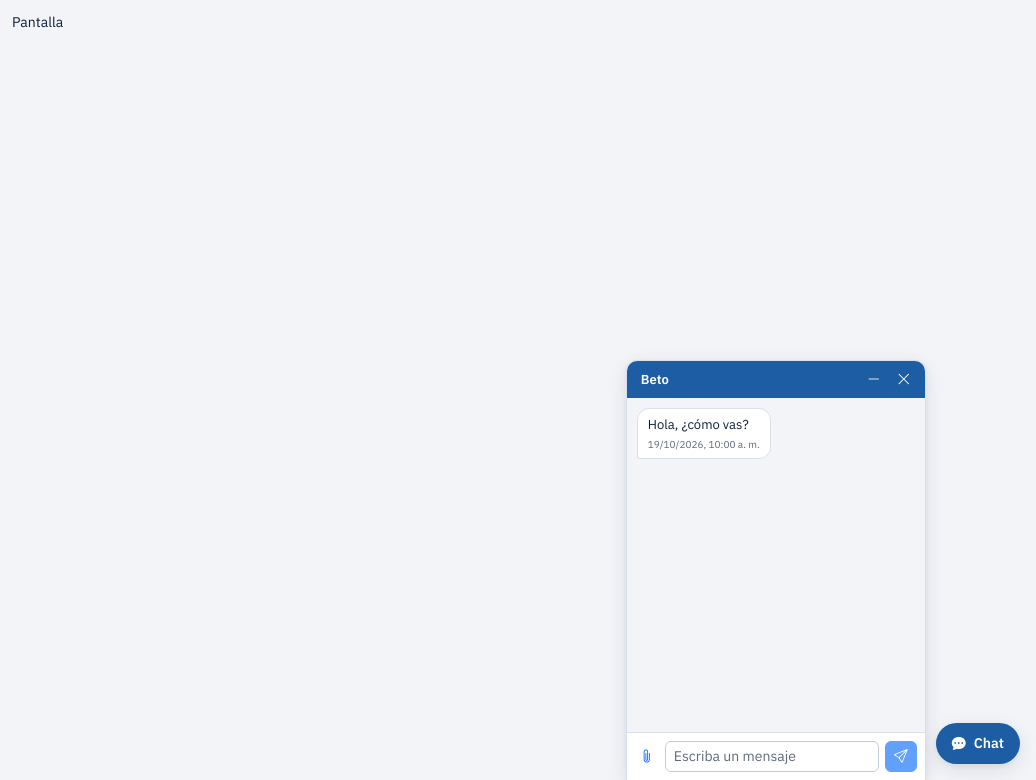
Test: La barra de chat › un clic en cualquier otra parte minimiza el panel y las conversaciones
Step 1. Click the button "Chat" → click(978, 744), box [936, 723, 1020, 764]
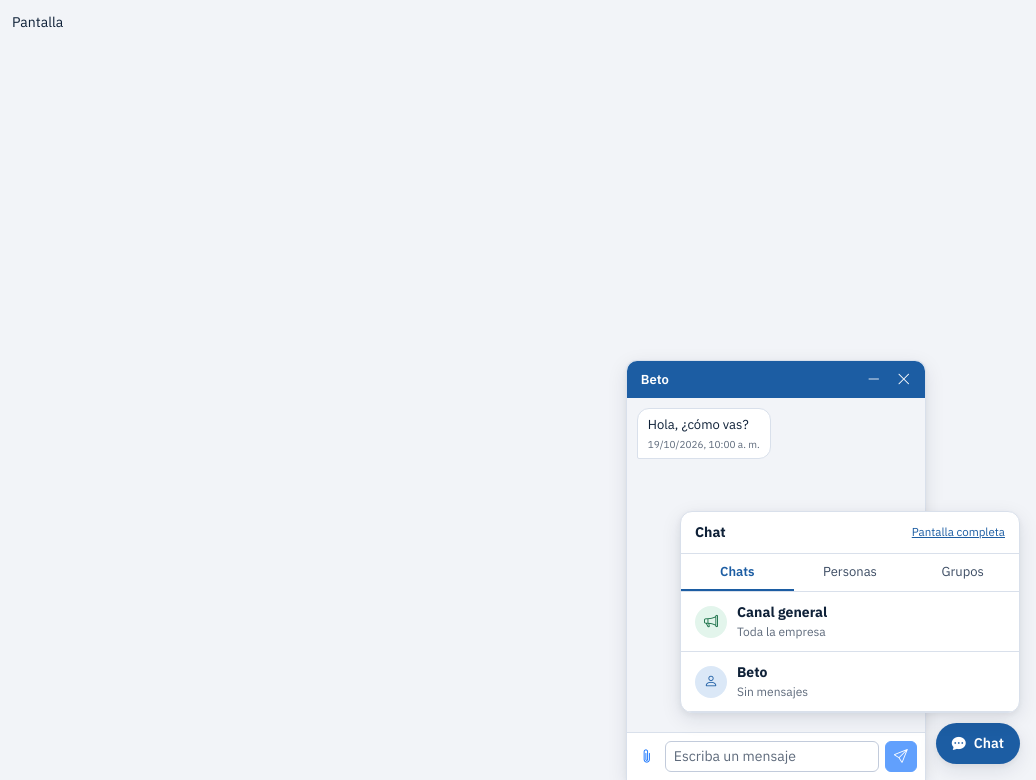
Dentro del chat no se minimiza nada.
Step 2. Press the mouse on the text box named "Mensaje para Beto" → (772, 756), box [665, 741, 879, 772]
Expected: the button named "Minimizar chat con Beto" is shown, [861, 367, 887, 392]
Now the element named "Chat de la empresa" is shown, box [680, 510, 1020, 713]
Fuera, sí: la pestaña queda en su barra, sin cerrarse.
Step 3. Press the mouse on the text "Pantalla" → (38, 22), box [12, 13, 63, 31]
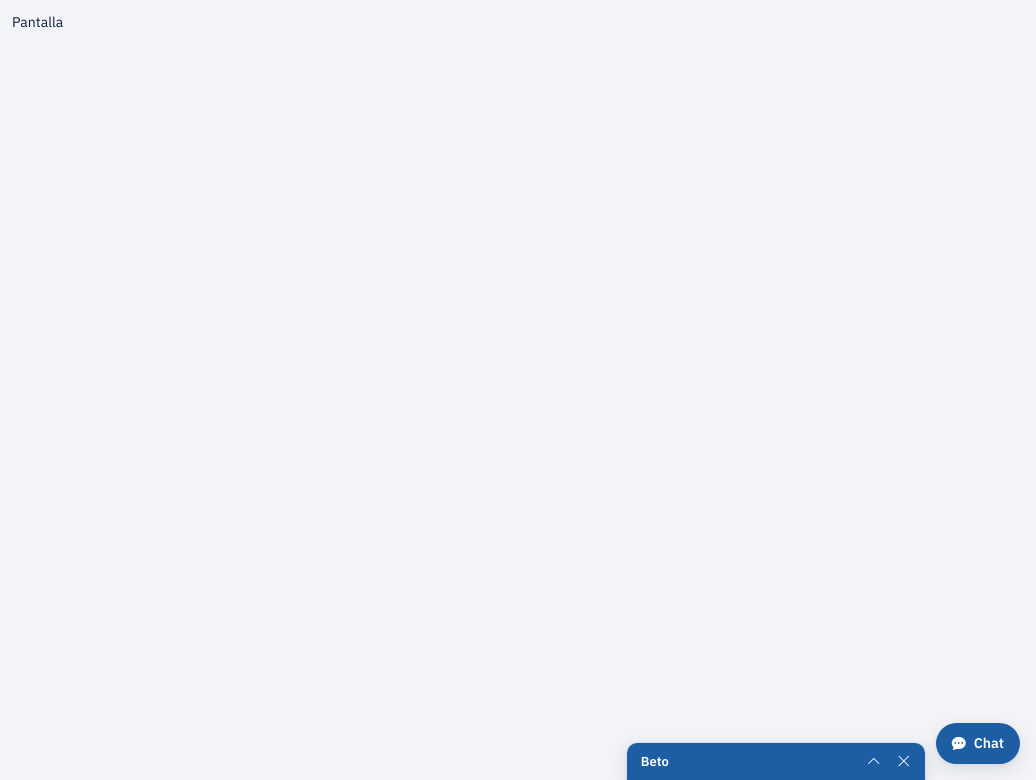
Now the button named "Abrir chat con Beto" is shown, box [861, 749, 887, 774]
